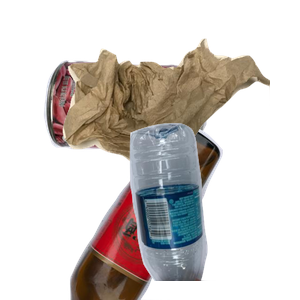glass: (67, 120, 282, 300)
metal: (41, 58, 240, 207)
plastic: (127, 120, 300, 300)
trash: (60, 36, 300, 198)
